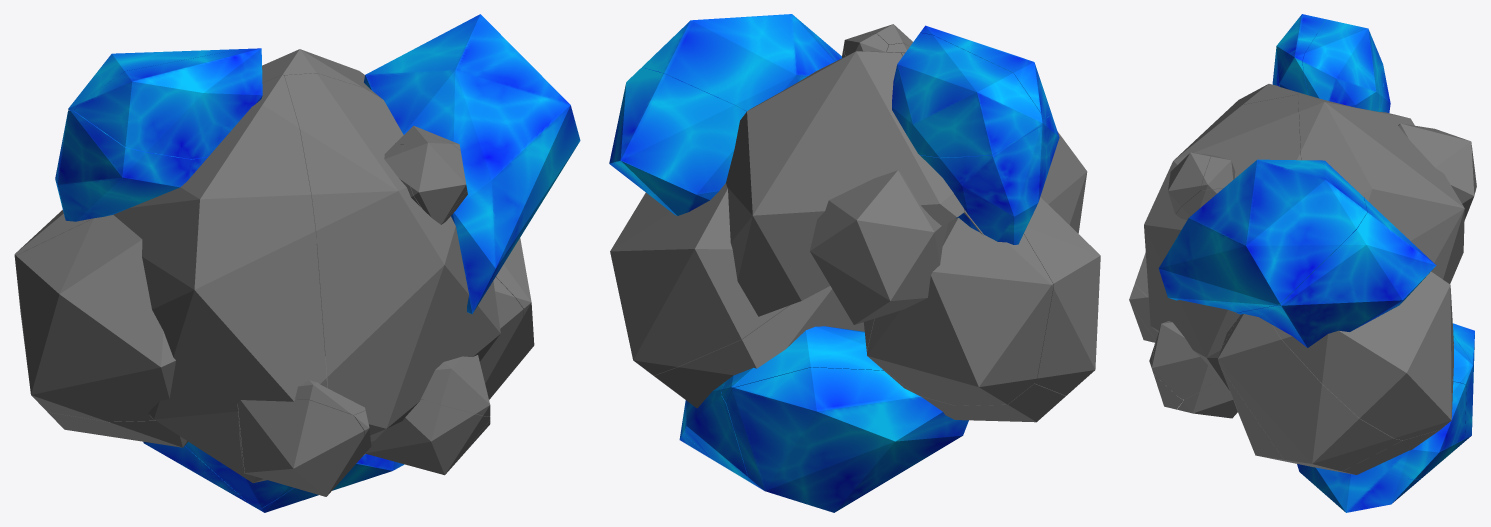
Rendered from WindstoneOre.fbx.
3 views of the same model, side by side, from view 1: azimuth 30°, elevation 25°; view 2: azimuth 150°, elevation 25°; view 3: azimuth 270°, elevation 25° (orthographic). The views are drawn at different scales.
Parts seen in each view (by area): view 1: StoneOre.026_cell.003, StoneOre.026_cell.005, WindstoneParticle.033_cell.016, StoneOre.025_cell.007, WindstoneParticle.033_cell.012, StoneOre.029_cell.007, WindstoneParticle.033_cell.015, StoneOre.028_cell.004, StoneOre.030_cell.004, StoneOre.028_cell.006, StoneOre.024_cell.006, StoneOre.024_cell.007 (+9 smaller); view 2: StoneOre.026_cell.004, WindstoneParticle.033_cell.018, StoneOre.025_cell.006, StoneOre.024_cell.009, WindstoneParticle.033_cell.014, WindstoneParticle.033_cell.013, WindstoneParticle.033_cell.016, StoneOre.025_cell.007, WindstoneParticle.033_cell.015, StoneOre.024_cell.008, StoneOre.027_cell.006, StoneOre.024 (+8 smaller); view 3: WindstoneParticle.033_cell.016, StoneOre.024_cell.009, StoneOre.026_cell.004, StoneOre.024_cell.006, StoneOre.026_cell.005, WindstoneParticle.033_cell.014, WindstoneParticle.033_cell.013, WindstoneParticle.033_cell.019, StoneOre.028_cell.006, WindstoneParticle.033_cell.020, WindstoneParticle.033_cell.012, StoneOre.024 (+12 smaller).
Boxes of the visible parts, left/top/right/bottom form: StoneOre.026_cell.003: left=113, top=75, right=326, bottom=482; StoneOre.026_cell.005: left=284, top=73, right=500, bottom=441; WindstoneParticle.033_cell.016: left=364, top=14, right=579, bottom=314; StoneOre.025_cell.007: left=15, top=215, right=175, bottom=421; WindstoneParticle.033_cell.012: left=74, top=48, right=262, bottom=158; StoneOre.029_cell.007: left=237, top=399, right=364, bottom=496; WindstoneParticle.033_cell.015: left=55, top=110, right=207, bottom=221; StoneOre.028_cell.004: left=365, top=399, right=490, bottom=475; StoneOre.030_cell.004: left=402, top=134, right=467, bottom=224; StoneOre.028_cell.006: left=421, top=355, right=490, bottom=416; StoneOre.024_cell.006: left=491, top=238, right=534, bottom=397; StoneOre.024_cell.007: left=316, top=239, right=523, bottom=399; StoneOre.026_cell.004: left=726, top=51, right=964, bottom=316; WindstoneParticle.033_cell.018: left=726, top=367, right=968, bottom=512; StoneOre.025_cell.006: left=867, top=217, right=1053, bottom=405; StoneOre.024_cell.009: left=610, top=183, right=788, bottom=375; WindstoneParticle.033_cell.014: left=609, top=67, right=746, bottom=215; WindstoneParticle.033_cell.013: left=892, top=33, right=1042, bottom=157; WindstoneParticle.033_cell.016: left=642, top=14, right=841, bottom=111; StoneOre.025_cell.007: left=1023, top=197, right=1100, bottom=395; WindstoneParticle.033_cell.015: left=920, top=114, right=1059, bottom=244; StoneOre.024_cell.008: left=654, top=286, right=864, bottom=408; StoneOre.027_cell.006: left=849, top=225, right=942, bottom=322; StoneOre.024: left=810, top=170, right=948, bottom=322; WindstoneParticle.033_cell.016: left=1158, top=159, right=1367, bottom=312; StoneOre.024_cell.009: left=1272, top=271, right=1453, bottom=440; StoneOre.026_cell.004: left=1298, top=93, right=1464, bottom=283; StoneOre.024_cell.006: left=1218, top=314, right=1402, bottom=471; StoneOre.026_cell.005: left=1144, top=94, right=1300, bottom=396; WindstoneParticle.033_cell.014: left=1237, top=197, right=1436, bottom=347; WindstoneParticle.033_cell.013: left=1302, top=19, right=1383, bottom=111; WindstoneParticle.033_cell.019: left=1297, top=464, right=1420, bottom=512; StoneOre.028_cell.006: left=1151, top=321, right=1217, bottom=399; WindstoneParticle.033_cell.020: left=1374, top=382, right=1466, bottom=479; WindstoneParticle.033_cell.012: left=1272, top=14, right=1325, bottom=94; StoneOre.024: left=1398, top=123, right=1474, bottom=195.
Bounding box in the file's own units: 288 × 256 × 211.
